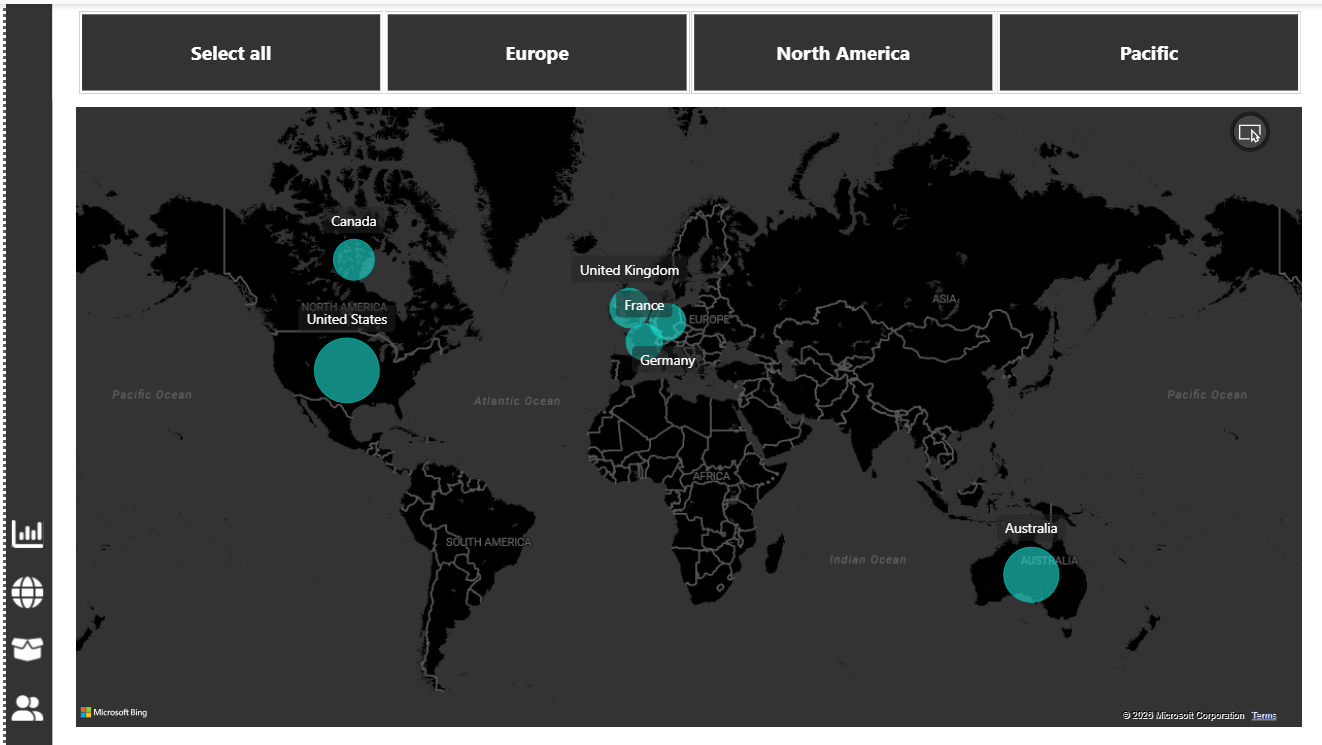

Layout of this report page (visuals, bound fields, positions):
{"tool":"powerbi","page":{"name":"Map","canvas":[1280,720],"ordinal":1},"visuals":[{"type":"shape","box":[0,0,45,720.6],"z":0},{"type":"map","fields":{"Category":["Territory Lookup.Country"],"Size":["Measure Table.Total Orders"]},"box":[63.1,93.9,1199.8,612.1],"z":1000},{"type":"actionButton","box":[1.2,607.8,45.3,38.9],"z":1000,"group":"g1"},{"type":"slicer","fields":{"Values":["Territory Lookup.Continent"]},"box":[45.3,0,1235.5,93.9],"z":2000},{"type":"actionButton","box":[1.2,495.5,45.3,38.9],"z":2000,"group":"g1"},{"type":"group","id":"g1","title":"Navigation Buttons","box":[1.2,495.5,45.3,207.3],"z":3000},{"type":"actionButton","box":[1.2,663.9,45.3,38.9],"z":3000,"group":"g1"},{"type":"actionButton","box":[1.2,551.6,45.3,38.9],"z":4000,"group":"g1"}]}

Visuals, with their boxes in screenshot pixels (x1, y1, x2, y2):
shape: 3/7/49/741
map - Territory Lookup.Country x Measure Table.Total Orders: 68/103/1290/726
actionButton: 5/626/51/666
slicer - Territory Lookup.Continent: 50/7/1308/103
actionButton: 5/512/51/551
"Navigation Buttons" group: 5/512/51/723
actionButton: 5/683/51/723
actionButton: 5/569/51/608
